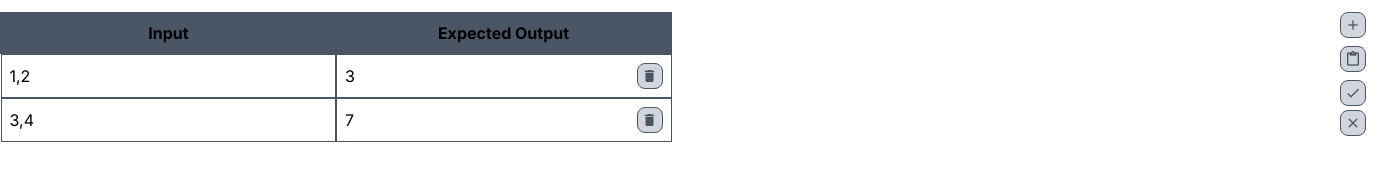
EditableTest › 3. Behavior (Row Management) › should revert changes on cancel click
This screenshot has width=1378, height=172.
Replace the text in the 1st field with "999": (168, 76) 10,64 -> 327,88
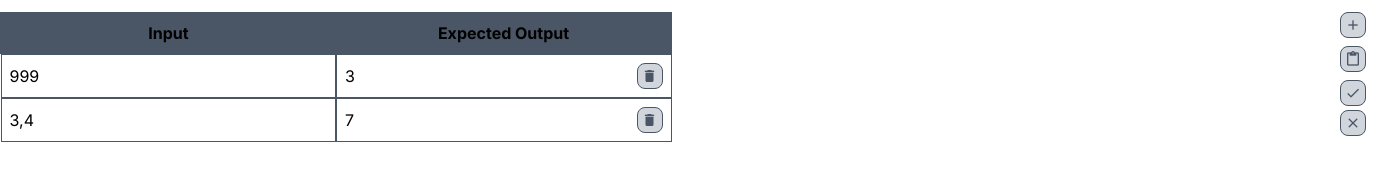
Click the 6th button: (1353, 123) 1340,110 -> 1366,136
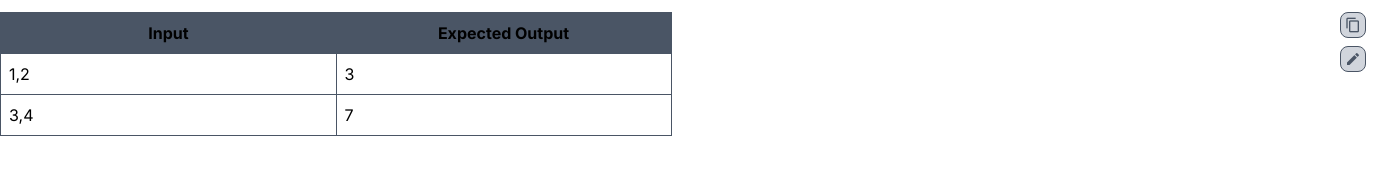
Expected: the text "999" is not shown
Result: the text "1,2" is shown at 0,54 -> 336,94
